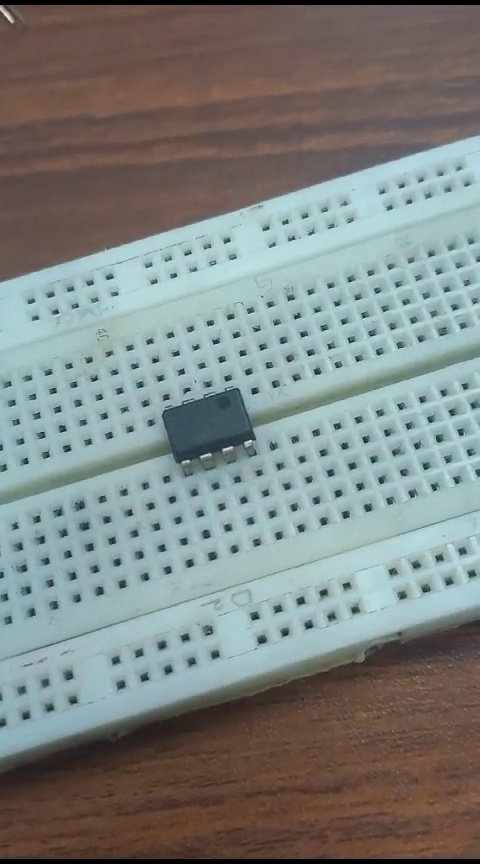IC: (151, 388, 266, 465)
